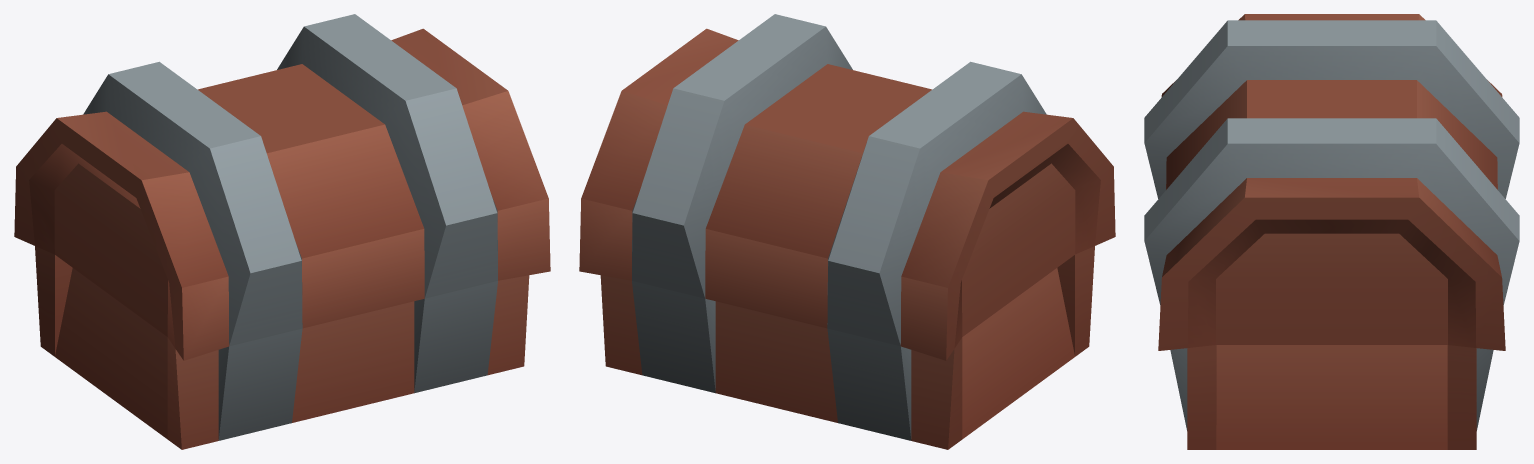
Rendered from trunk_small_a.gltf.
The picture shows the model from 3 angles, left to right: view 1: azimuth 30°, elevation 25°; view 2: azimuth 150°, elevation 25°; view 3: azimuth 270°, elevation 25°; orthographic projection. The views are drawn at different scales.
Visible parts, largest first — view 1: trunk_small_A; view 2: trunk_small_A; view 3: trunk_small_A.
Part boxes in pixels (x1,y1,x2,y2): trunk_small_A: (14,14,550,449); trunk_small_A: (579,14,1115,449); trunk_small_A: (1144,14,1519,449).
Size of the model in its own units: 0.6754 by 0.4843 by 0.5834.
1 material, 1 textured.
